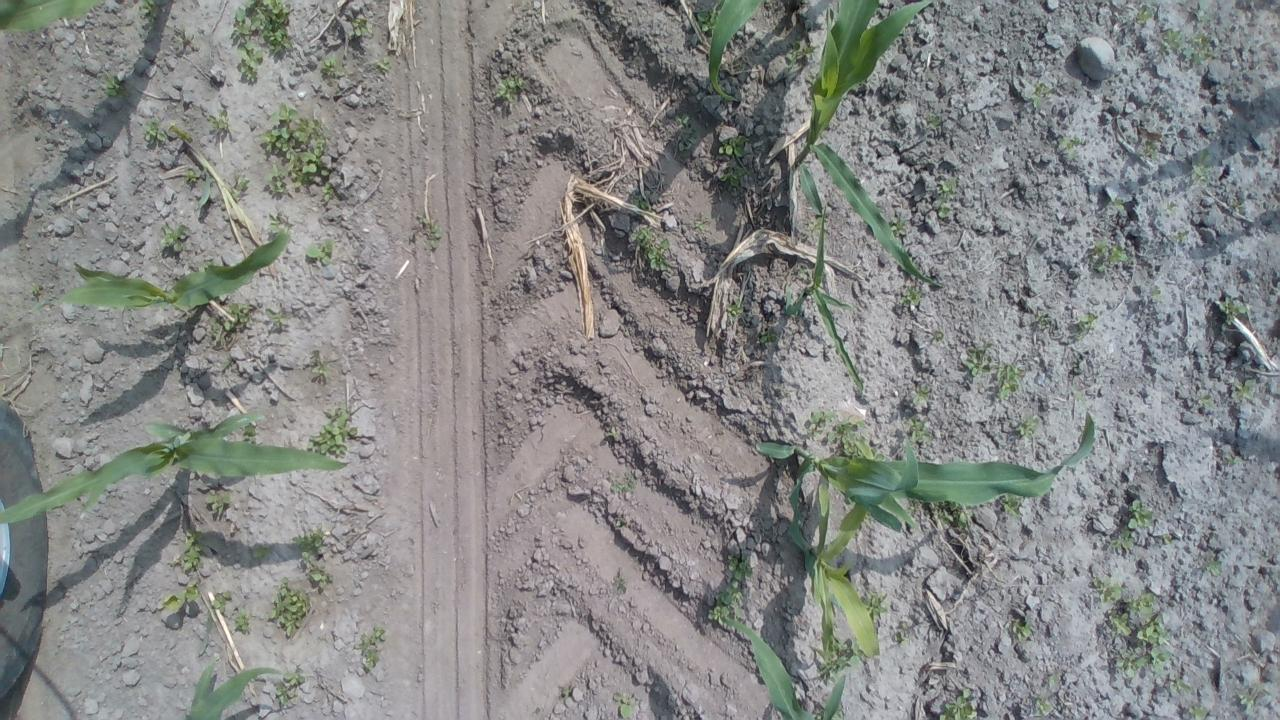Maize: (754, 386, 1096, 574), (793, 0, 945, 288), (0, 410, 351, 523), (29, 228, 290, 314), (786, 206, 866, 394), (804, 473, 882, 659), (724, 614, 846, 720), (708, 0, 796, 102), (0, 0, 202, 33), (184, 657, 284, 720)
Weeds: (258, 103, 330, 196), (229, 0, 294, 55), (708, 554, 754, 626), (306, 402, 356, 457), (826, 418, 888, 462), (268, 576, 310, 636), (817, 634, 865, 684), (628, 226, 670, 271), (1116, 648, 1172, 677), (354, 626, 386, 671), (162, 578, 198, 612), (1092, 240, 1128, 274), (938, 688, 976, 720), (294, 526, 325, 565), (235, 40, 262, 84), (1136, 614, 1172, 647), (962, 341, 994, 377), (274, 669, 306, 704), (181, 528, 205, 573), (674, 112, 700, 153), (494, 71, 526, 104), (785, 38, 817, 70), (1184, 31, 1213, 66), (996, 364, 1024, 400), (860, 589, 889, 621), (158, 222, 188, 252), (1219, 296, 1248, 326), (304, 238, 333, 266), (806, 410, 836, 437), (937, 176, 956, 218), (612, 692, 640, 720), (1092, 576, 1122, 602), (224, 300, 249, 330), (950, 496, 973, 528), (1128, 500, 1154, 528), (226, 172, 250, 202), (1015, 412, 1039, 441), (309, 349, 332, 379), (138, 0, 165, 25), (718, 135, 748, 157), (266, 210, 291, 236), (206, 492, 233, 516), (307, 564, 334, 588), (1192, 148, 1210, 184), (1127, 590, 1154, 614), (908, 416, 933, 441), (142, 118, 168, 142), (1000, 491, 1024, 516), (610, 470, 637, 492), (928, 499, 952, 523), (1076, 313, 1098, 339), (1110, 528, 1135, 550), (696, 8, 720, 30), (321, 56, 345, 78), (1108, 610, 1130, 634), (264, 306, 290, 326), (1058, 136, 1081, 158), (719, 166, 744, 186), (1158, 30, 1180, 52), (1232, 378, 1254, 400), (103, 73, 123, 96), (1032, 82, 1051, 106), (208, 315, 224, 343), (352, 17, 374, 37), (208, 108, 228, 130), (806, 216, 826, 238), (727, 298, 747, 320), (1141, 138, 1160, 161), (898, 287, 922, 305), (823, 699, 843, 720), (212, 590, 230, 613), (1012, 620, 1032, 640), (912, 385, 931, 406), (240, 421, 257, 444), (426, 224, 442, 248), (894, 622, 911, 644), (1034, 696, 1052, 716), (1237, 691, 1256, 709), (890, 216, 907, 236), (234, 609, 250, 630), (758, 328, 779, 344), (1136, 5, 1152, 25), (321, 182, 336, 202), (1196, 390, 1212, 408), (1190, 704, 1208, 720), (1160, 200, 1178, 216), (1206, 558, 1222, 576), (631, 196, 650, 210), (376, 56, 392, 72), (176, 26, 190, 44), (1169, 678, 1189, 690), (253, 544, 270, 558), (1036, 310, 1049, 328), (926, 113, 941, 128), (184, 168, 198, 184), (1225, 453, 1242, 465), (1047, 672, 1061, 686), (1112, 196, 1126, 210), (909, 498, 922, 512), (415, 212, 429, 224), (1173, 231, 1188, 242), (220, 356, 232, 369), (933, 328, 944, 342), (28, 283, 40, 295), (199, 261, 212, 272), (813, 707, 824, 719), (616, 579, 626, 592), (694, 220, 706, 230), (1153, 285, 1161, 299), (607, 427, 618, 437), (562, 686, 572, 696), (1162, 534, 1172, 544), (806, 74, 815, 84), (1233, 202, 1242, 212), (863, 512, 872, 521), (616, 518, 624, 526), (1073, 365, 1080, 373), (170, 560, 178, 566)
